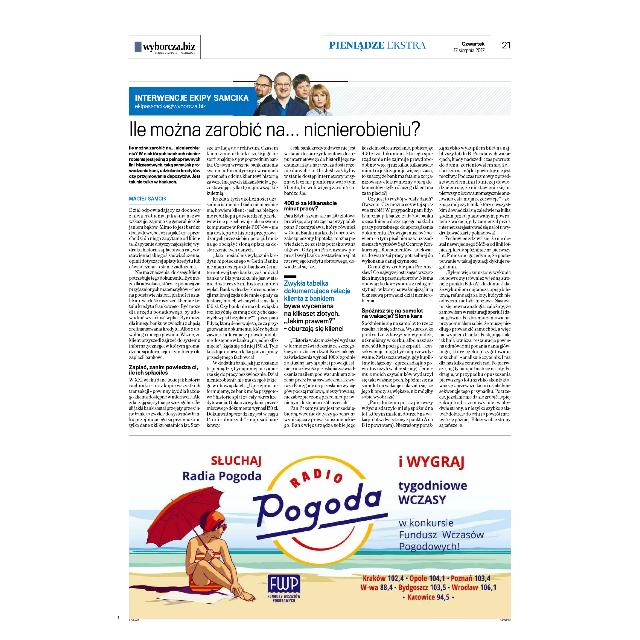article: (128, 118, 510, 432)
